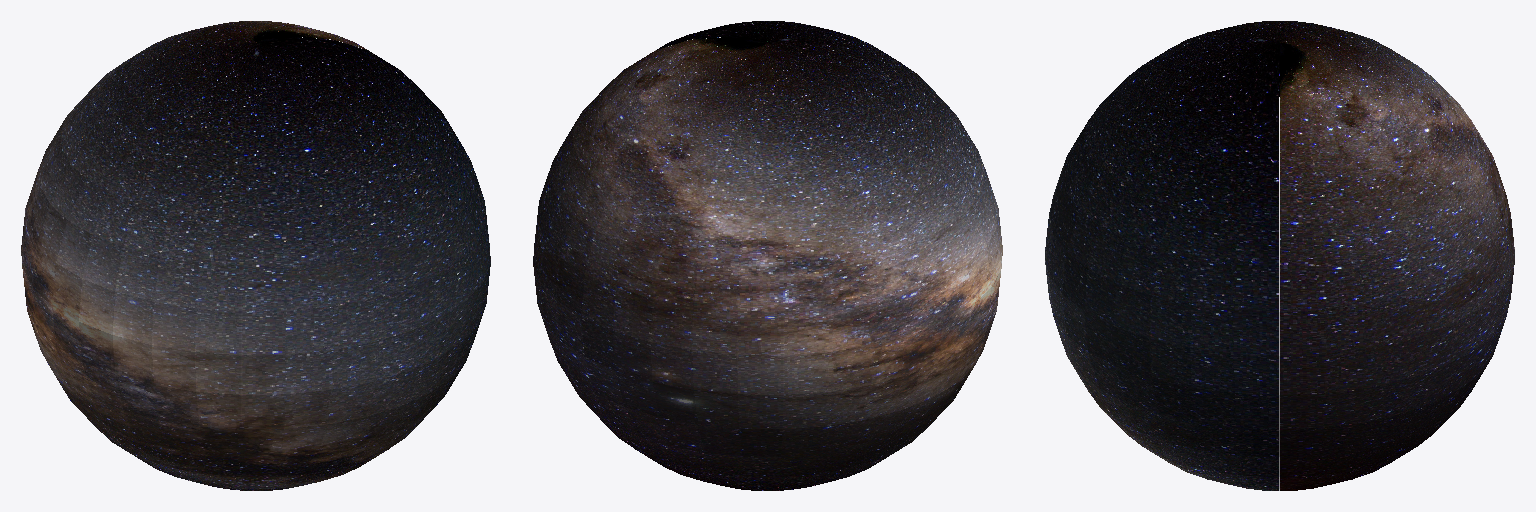
The picture shows the model from 3 angles: view 1: azimuth 30°, elevation 25°; view 2: azimuth 150°, elevation 25°; view 3: azimuth 270°, elevation 25°; orthographic projection.
Parts seen in each view (by area): view 1: 球; view 2: 球; view 3: 球.
Part boxes in pixels (x1,y1,x2,y2): 球: (21, 21, 490, 490); 球: (533, 21, 1002, 490); 球: (1045, 21, 1514, 490).
Bounding box in the file's own units: 1000 × 1000 × 1000.
1 materials, 1 textured.